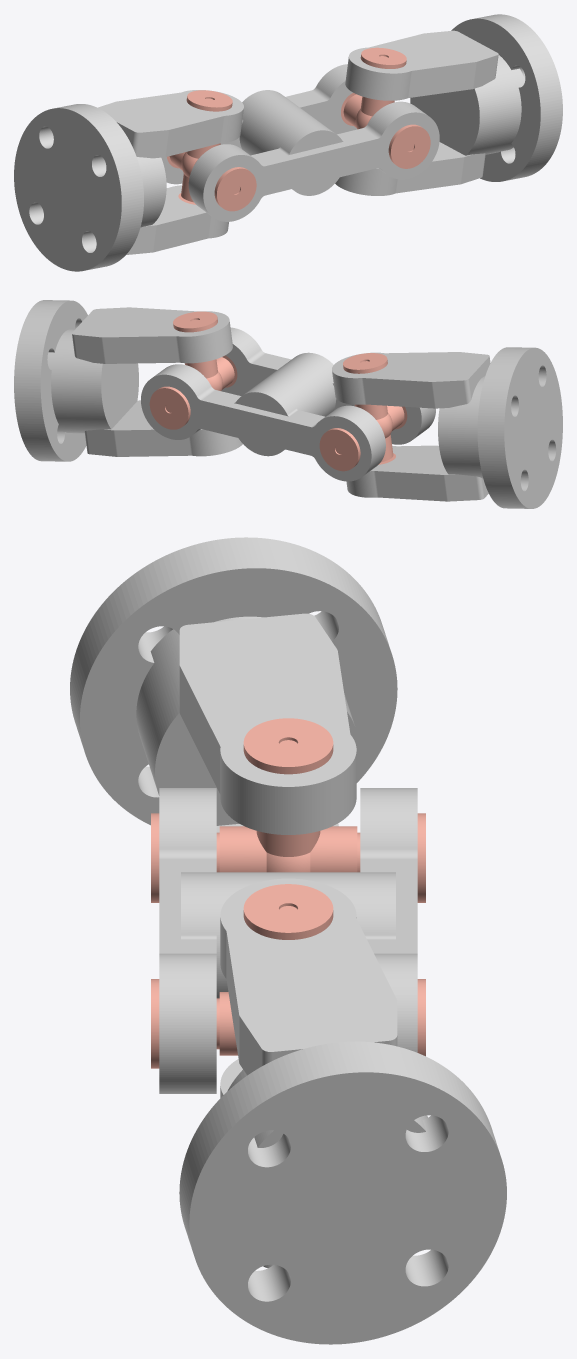
File: universal_joint__0001.glb
The picture shows the model from 3 angles, top to bottom: view 1: azimuth 30°, elevation 25°; view 2: azimuth 150°, elevation 25°; view 3: azimuth 270°, elevation 25°; orthographic projection. The views are drawn at different scales.
Parts seen in each view (by area): view 1: left_section::sleeve_yoke_body, right_section::sleeve_yoke_body, middle_section::double_yoke_forging, middle_section::left_cap_neg_y, middle_section::right_cap_neg_y, right_spider::spider_core, left_section::left_cap_pos_z, right_section::right_cap_pos_z, left_spider::spider_core; view 2: left_section::sleeve_yoke_body, right_section::sleeve_yoke_body, middle_section::double_yoke_forging, middle_section::right_cap_pos_y, middle_section::left_cap_pos_y, left_spider::spider_core, right_spider::spider_core, right_section::right_cap_pos_z, left_section::left_cap_pos_z; view 3: right_section::sleeve_yoke_body, left_section::sleeve_yoke_body, middle_section::double_yoke_forging, left_spider::spider_core, left_section::left_cap_pos_z, right_section::right_cap_pos_z.
Part boxes in pixels (x1,y1,x2,y2): left_section::sleeve_yoke_body: (14, 90, 243, 271); right_section::sleeve_yoke_body: (335, 14, 562, 195); middle_section::double_yoke_forging: (161, 64, 439, 221); middle_section::left_cap_neg_y: (214, 167, 256, 211); middle_section::right_cap_neg_y: (388, 124, 430, 168); right_spider::spider_core: (343, 94, 394, 129); left_section::left_cap_pos_z: (186, 90, 232, 111); right_section::right_cap_pos_z: (360, 47, 406, 68); left_spider::spider_core: (169, 143, 220, 202); left_section::sleeve_yoke_body: (332, 347, 562, 508); right_section::sleeve_yoke_body: (14, 300, 242, 461); middle_section::double_yoke_forging: (141, 327, 435, 481); middle_section::right_cap_pos_y: (149, 386, 190, 429); middle_section::left_cap_pos_y: (319, 428, 360, 471); left_spider::spider_core: (354, 404, 404, 462); right_spider::spider_core: (185, 357, 234, 390); right_section::right_cap_pos_z: (173, 311, 217, 332); left_section::left_cap_pos_z: (343, 353, 387, 373); right_section::sleeve_yoke_body: (179, 878, 506, 1344); left_section::sleeve_yoke_body: (70, 537, 397, 834); middle_section::double_yoke_forging: (159, 788, 417, 1093); left_spider::spider_core: (219, 826, 357, 872); left_section::left_cap_pos_z: (243, 718, 333, 774); right_section::right_cap_pos_z: (243, 884, 333, 939).
Bounding box in the file's own units: 0.1583 × 0.0577 × 0.061.
2 materials, 1 textured.
